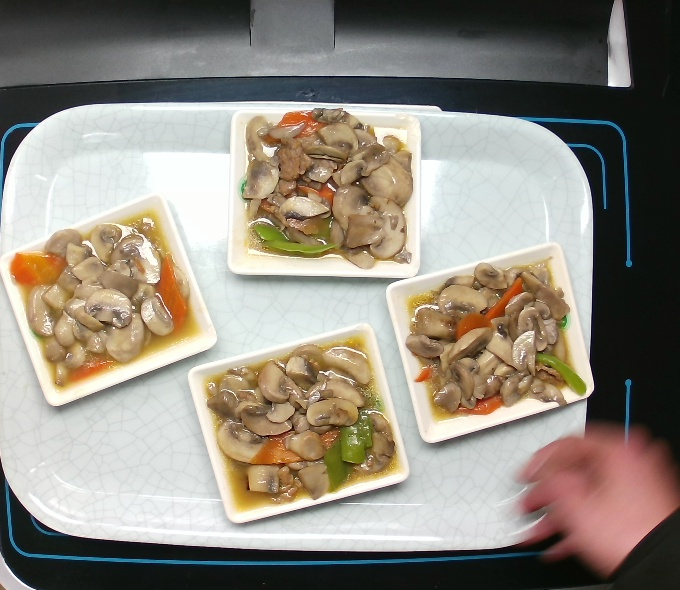wcq-HouTouGuChaoRou: (195, 336, 405, 514), (392, 250, 589, 424), (12, 209, 199, 392), (224, 111, 430, 271)
